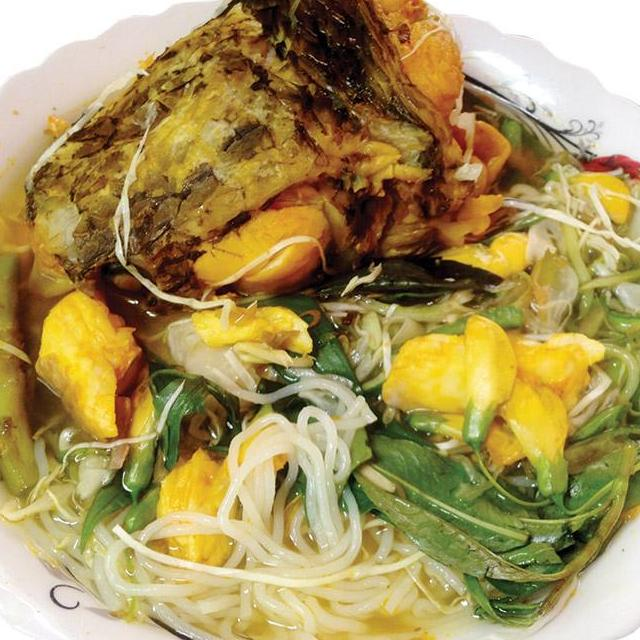bun: (12, 384, 504, 640)
bun ca: (0, 0, 640, 640)
ca: (4, 0, 471, 309), (22, 280, 160, 444)
rau ram: (326, 415, 640, 635), (70, 356, 247, 558), (235, 287, 385, 440), (301, 243, 509, 309), (615, 312, 640, 453)
